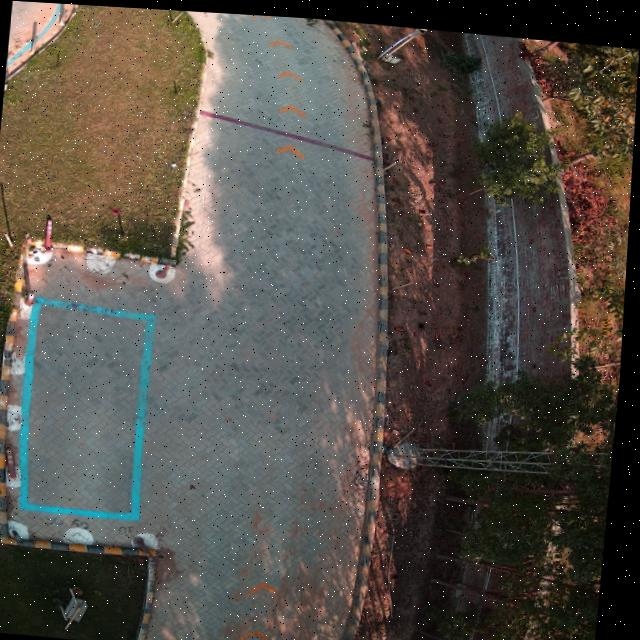No Car: (0, 1, 639, 640)
